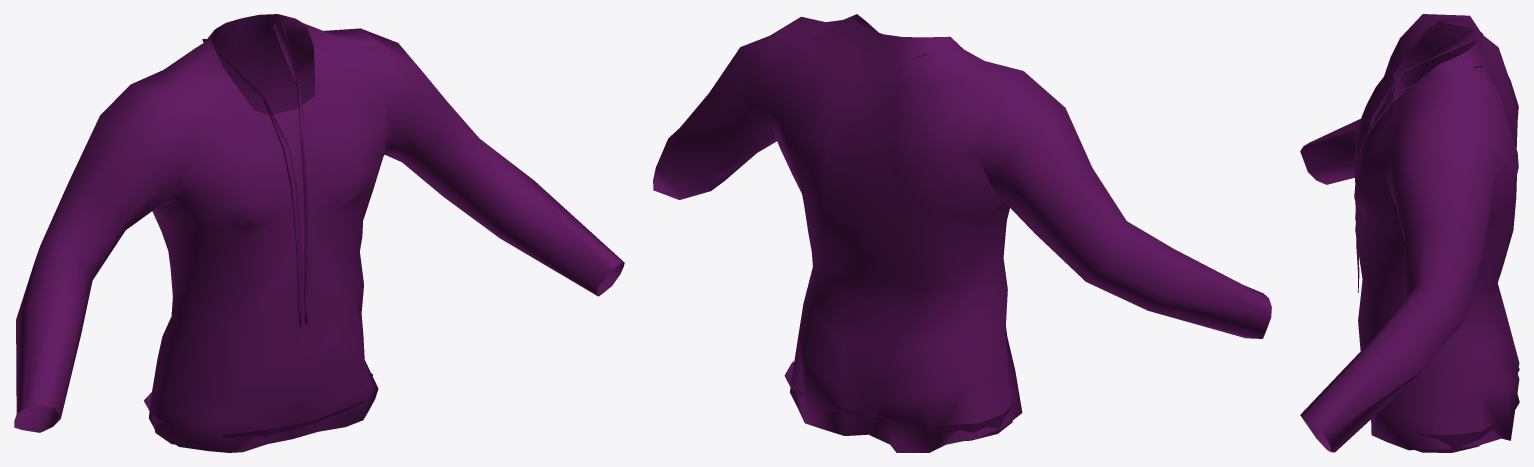
The model's file is blazer_silk.glb.
3 renders of one model, left to right at view 1: azimuth 30°, elevation 25°; view 2: azimuth 150°, elevation 25°; view 3: azimuth 270°, elevation 25°, orthographic. The views are drawn at different scales.
Parts seen in each view (by area): view 1: blazer_silk; view 2: blazer_silk; view 3: blazer_silk.
Part boxes in pixels (x1=…): blazer_silk: x1=14, y1=14, x2=624, y2=452; blazer_silk: x1=653, y1=14, x2=1271, y2=452; blazer_silk: x1=1300, y1=14, x2=1519, y2=452.
Bounding box in the file's own units: 1.08 × 0.6659 × 0.3472.
